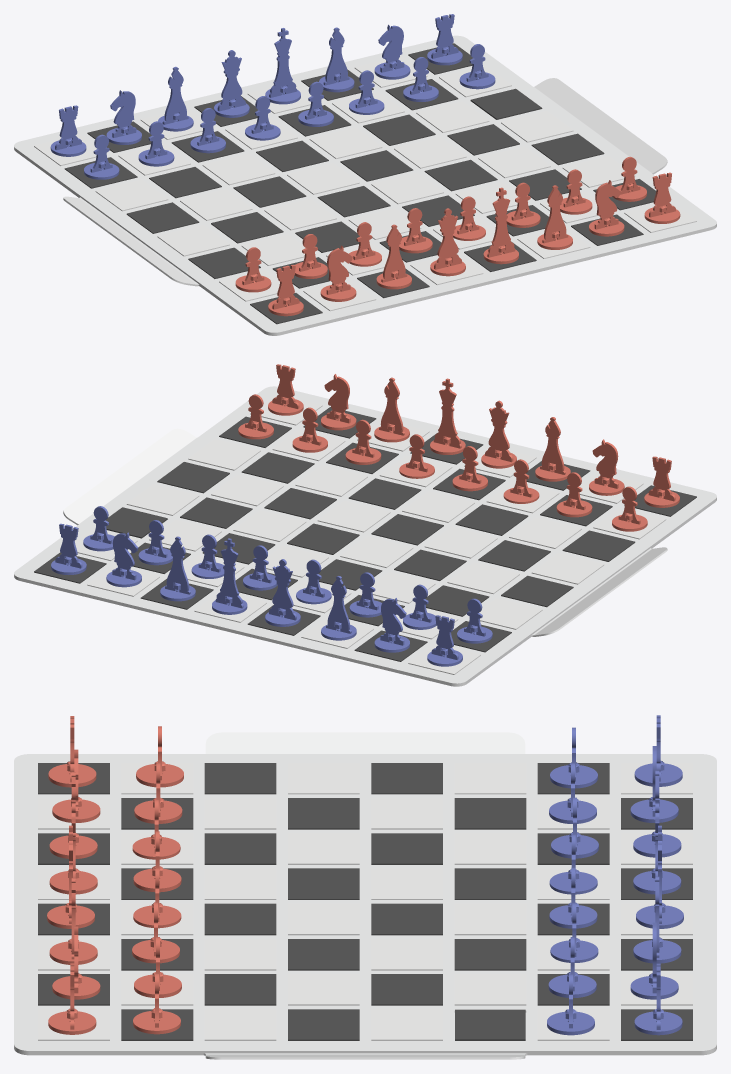
Rendered from SCSChessSet.glb.
The picture shows the model from 3 angles, top to bottom: view 1: azimuth 30°, elevation 25°; view 2: azimuth 150°, elevation 25°; view 3: azimuth 270°, elevation 25°; orthographic projection. The views are drawn at different scales.
Parts seen in each view (by area): view 1: board, piece_red_king_1, piece_blue_king_1, piece_red_queen_1, piece_blue_queen_1, piece_blue_knight_2, piece_blue_knight_1, piece_red_knight_2, piece_red_knight_1, piece_red_bishop_1, piece_red_bishop_2, piece_blue_bishop_2 (+21 smaller); view 2: board, piece_red_king_1, piece_blue_king_1, piece_red_queen_1, piece_blue_queen_1, piece_blue_knight_2, piece_blue_knight_1, piece_red_knight_2, piece_red_knight_1, piece_red_bishop_2, piece_blue_bishop_2, piece_blue_bishop_1 (+21 smaller); view 3: board, piece_red_rook_2, piece_blue_rook_2, piece_blue_bishop_2, piece_red_bishop_2, piece_red_king_1, piece_blue_king_1, piece_blue_knight_2, piece_red_knight_2, piece_blue_knight_1, piece_blue_pawn_8, piece_red_knight_1 (+21 smaller).
Boxes of the visible parts, left/top/right/bottom form: board: left=14, top=35, right=716, bottom=335; piece_red_king_1: left=483, top=187, right=518, bottom=264; piece_blue_king_1: left=265, top=28, right=300, bottom=104; piece_red_queen_1: left=430, top=208, right=465, bottom=276; piece_blue_queen_1: left=214, top=50, right=249, bottom=117; piece_blue_knight_2: left=374, top=24, right=410, bottom=79; piece_blue_knight_1: left=106, top=90, right=141, bottom=144; piece_red_knight_2: left=589, top=180, right=624, bottom=236; piece_red_knight_1: left=320, top=245, right=356, bottom=301; piece_red_bishop_1: left=376, top=224, right=411, bottom=289; piece_red_bishop_2: left=537, top=185, right=572, bottom=249; piece_blue_bishop_2: left=319, top=27, right=354, bottom=92; board: left=14, top=386, right=716, bottom=686; piece_red_king_1: left=430, top=378, right=465, bottom=454; piece_blue_king_1: left=212, top=538, right=247, bottom=614; piece_red_queen_1: left=481, top=400, right=516, bottom=468; piece_blue_queen_1: left=265, top=559, right=300, bottom=626; piece_blue_knight_2: left=106, top=532, right=141, bottom=587; piece_blue_knight_1: left=374, top=598, right=409, bottom=652; piece_red_knight_2: left=321, top=374, right=356, bottom=430; piece_red_knight_1: left=589, top=439, right=624, bottom=495; piece_red_bishop_2: left=374, top=377, right=409, bottom=442; piece_blue_bishop_2: left=160, top=536, right=195, bottom=601; piece_blue_bishop_1: left=321, top=576, right=356, bottom=640; board: left=14, top=732, right=716, bottom=1059; piece_red_rook_2: left=48, top=963, right=96, bottom=1034; piece_blue_rook_2: left=634, top=963, right=682, bottom=1035; piece_blue_bishop_2: left=633, top=876, right=681, bottom=963; piece_red_bishop_2: left=49, top=878, right=97, bottom=964; piece_red_king_1: left=47, top=825, right=94, bottom=928; piece_blue_king_1: left=636, top=825, right=683, bottom=928; piece_blue_knight_2: left=630, top=922, right=678, bottom=999; piece_red_knight_2: left=52, top=926, right=100, bottom=999; piece_blue_knight_1: left=630, top=746, right=678, bottom=822; piece_blue_pawn_8: left=547, top=974, right=594, bottom=1035; piece_red_knight_1: left=52, top=749, right=100, bottom=822.
Size of the model in its own units: 0.6123 by 0.0856 by 0.5588.
